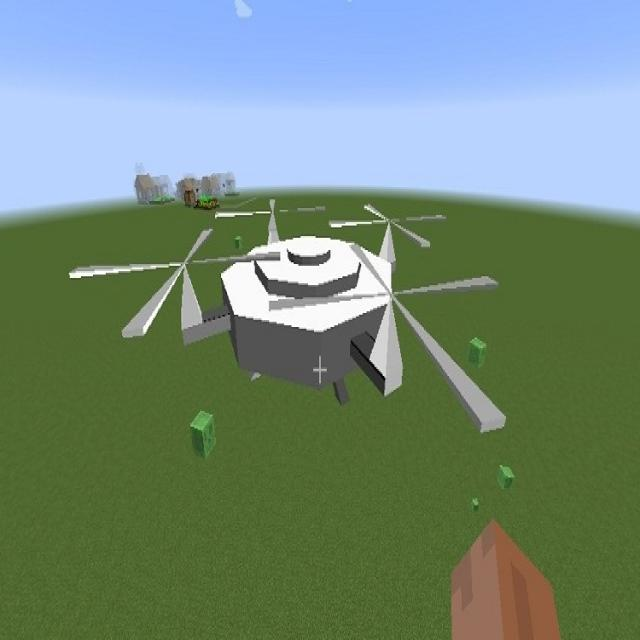drone: (90, 170, 518, 486)
